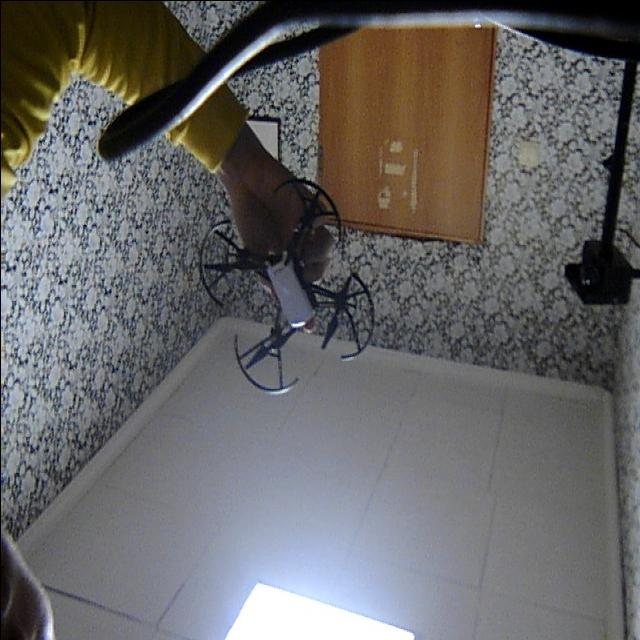drone: (189, 174, 382, 408)
